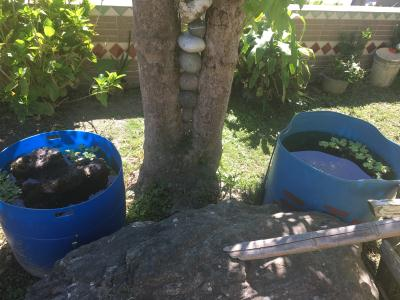bucket: (1, 128, 129, 277), (260, 109, 399, 222), (367, 44, 398, 91)
